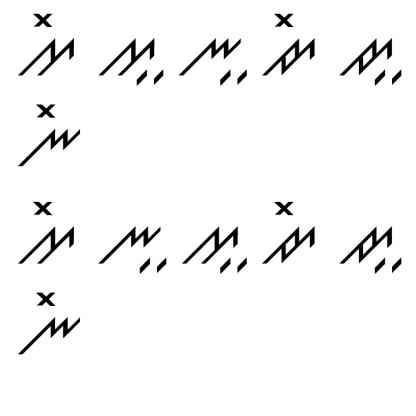jah: (337, 212, 406, 278), (337, 35, 404, 91)
jo: (259, 198, 319, 270), (261, 8, 320, 79)
nyah: (175, 31, 251, 90), (90, 219, 168, 276)
nyo: (12, 281, 87, 357), (13, 100, 86, 172)
sah: (94, 32, 167, 89), (182, 221, 250, 280)
so: (12, 8, 79, 78), (16, 196, 78, 268)
